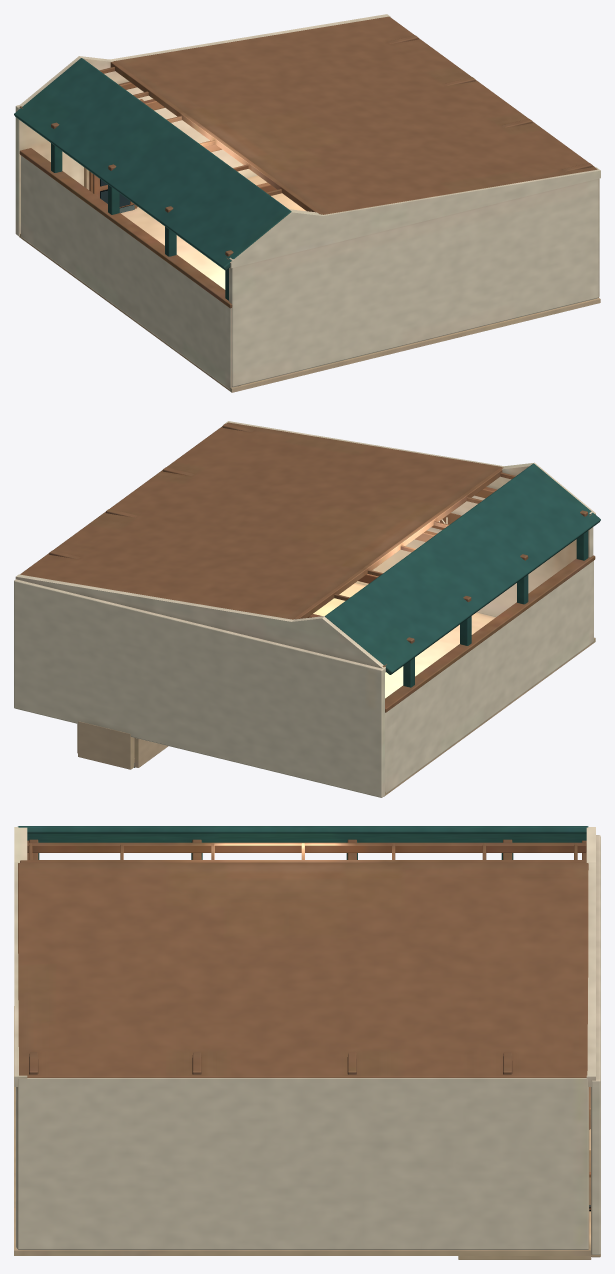
Rendered from gallery.glb.
3 views of the same model, one above another, from view 1: azimuth 30°, elevation 25°; view 2: azimuth 150°, elevation 25°; view 3: azimuth 270°, elevation 25° (orthographic). The views are drawn at different scales.
Parts seen in each view (by area): view 1: VIS · Collection gallery; view 2: VIS · Collection gallery; view 3: VIS · Collection gallery.
Part boxes in pixels (x1=…): VIS · Collection gallery: x1=14, y1=14, x2=600, y2=392; VIS · Collection gallery: x1=14, y1=421, x2=600, y2=797; VIS · Collection gallery: x1=14, y1=826, x2=600, y2=1259.
Size of the model in its own units: 12.03 by 6.06 by 11.95.
11 materials, 9 textured.
